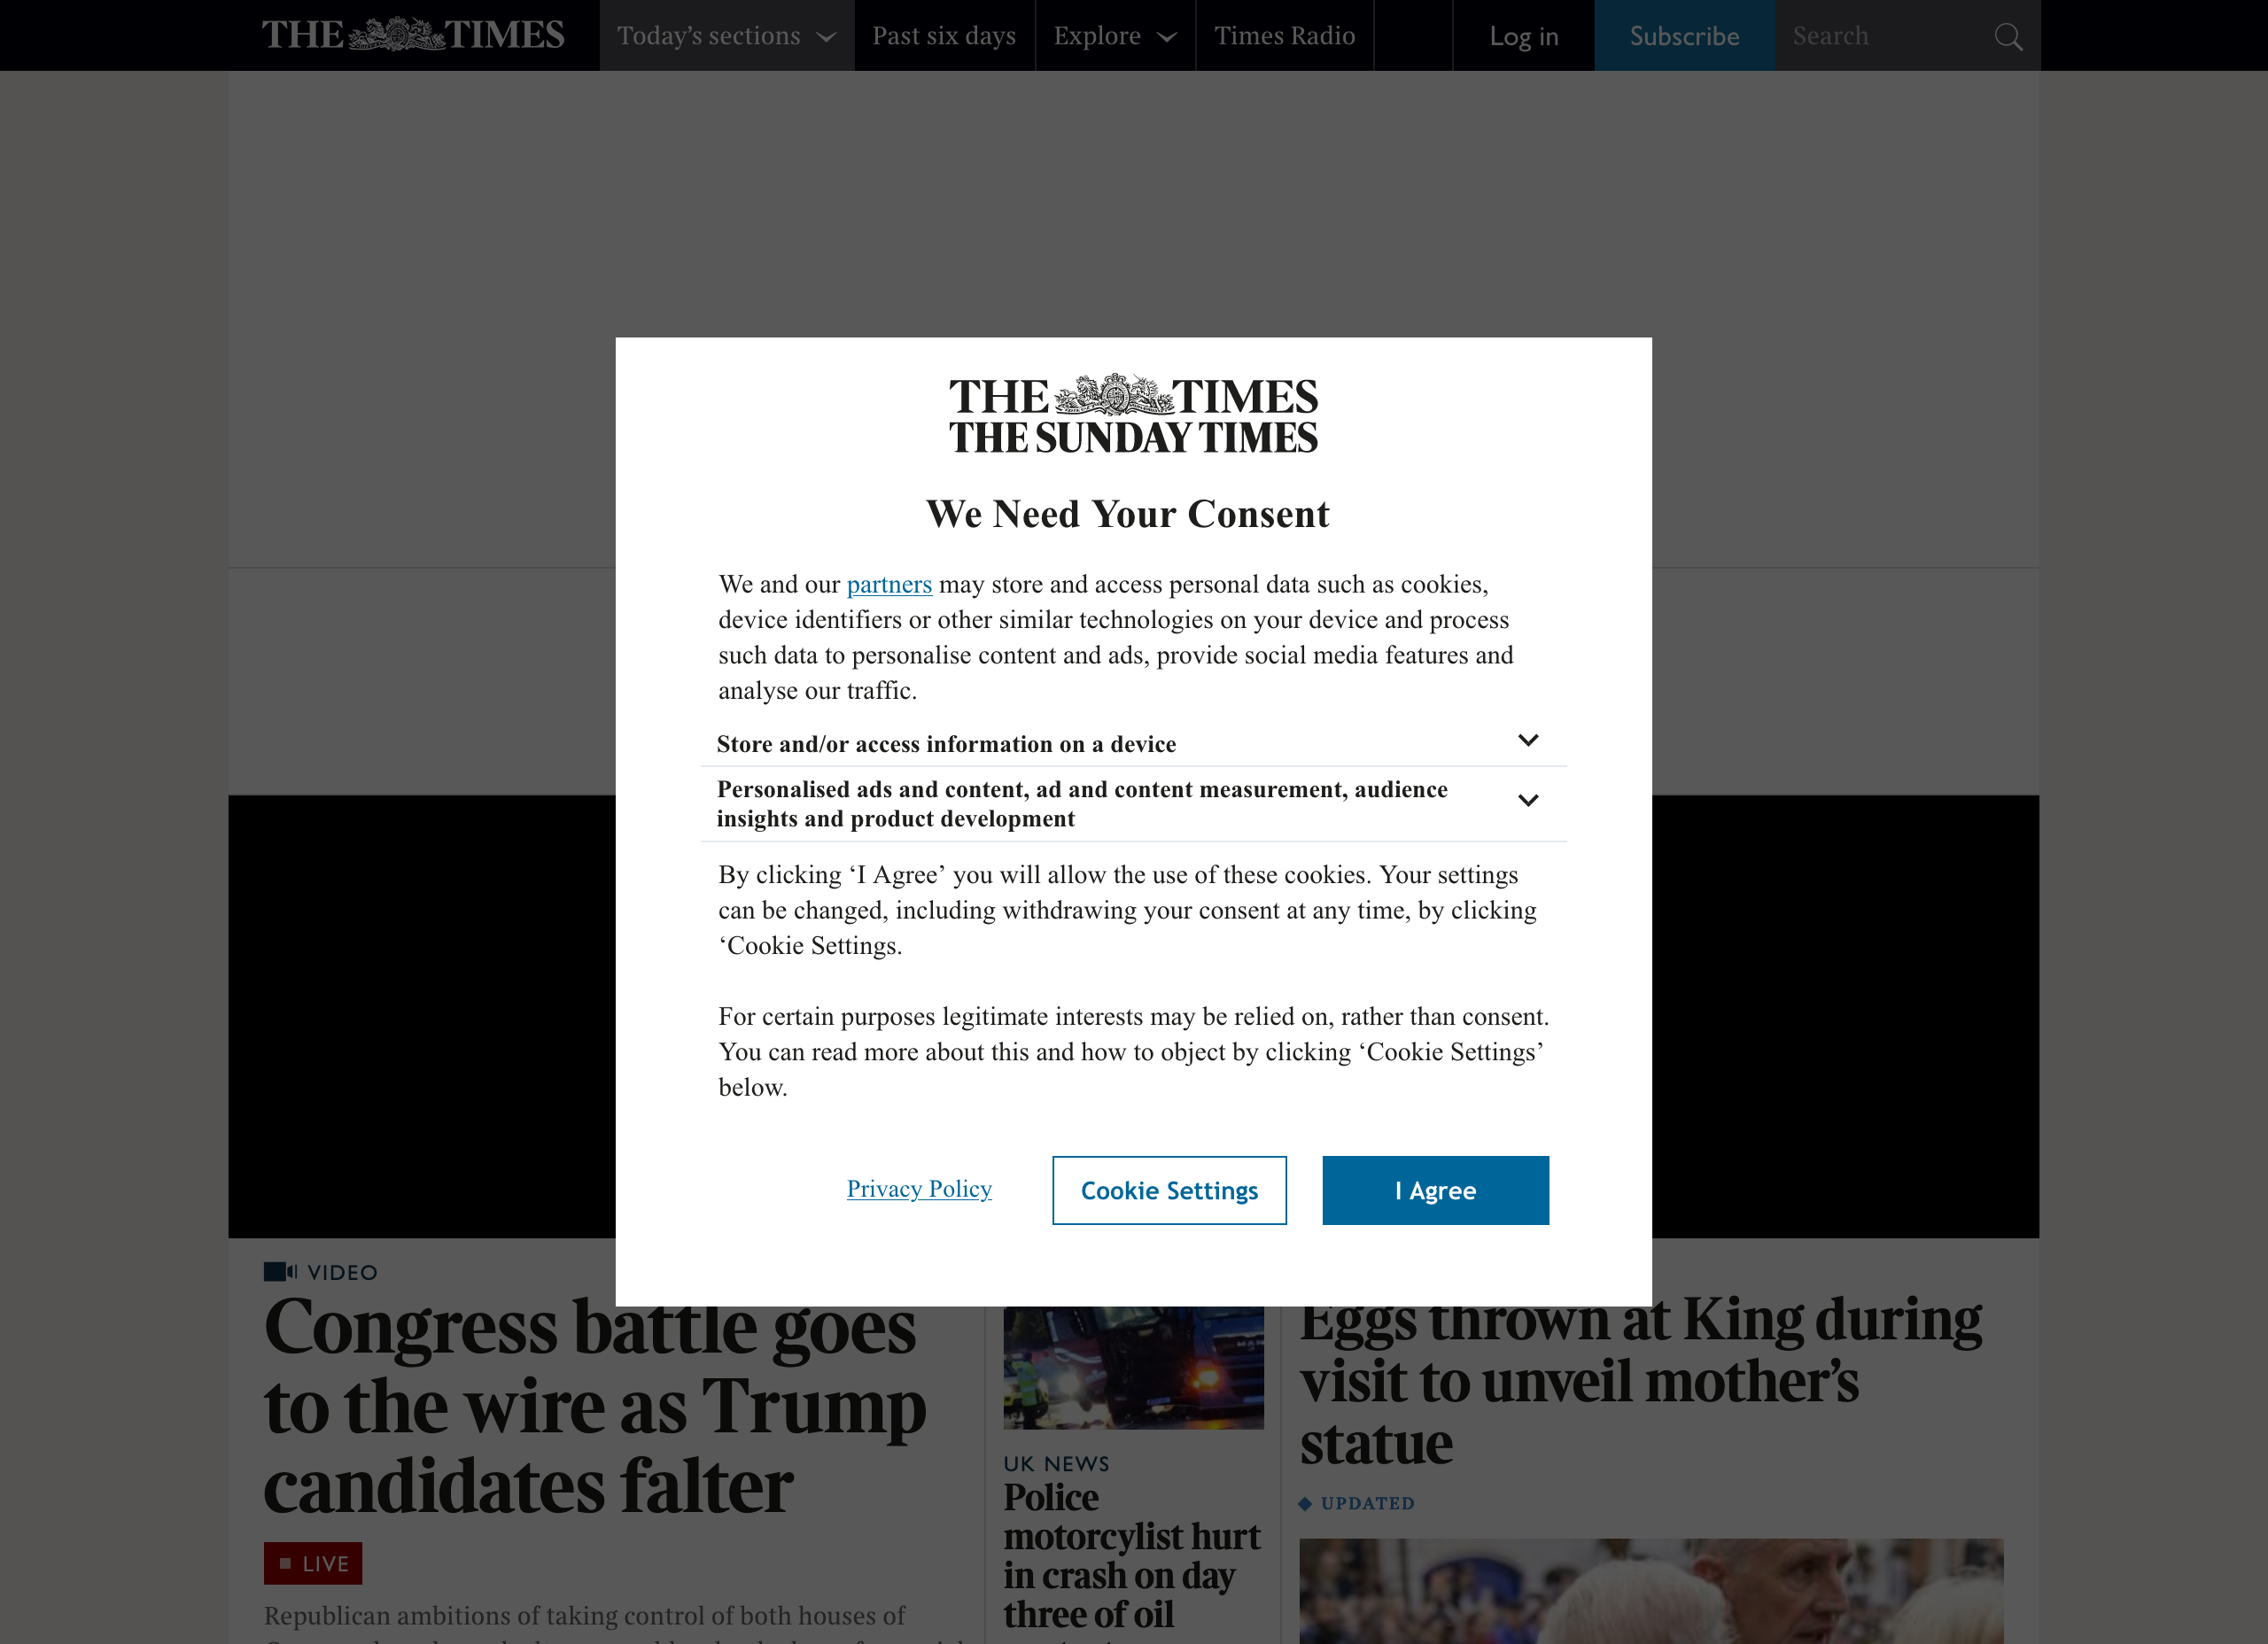Login: (1477, 12, 1579, 60)
